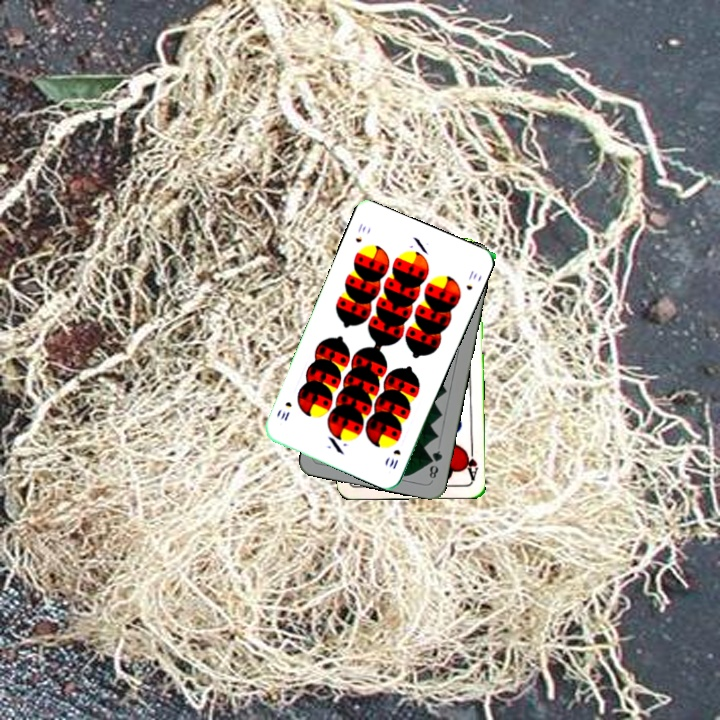G8: (425, 446, 445, 481)
HA: (460, 441, 480, 482)
S10: (385, 445, 403, 472), (351, 219, 369, 245)
